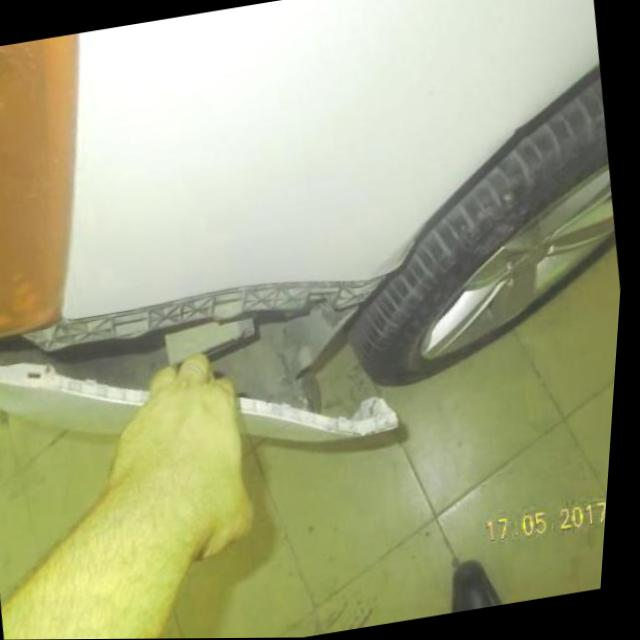Car-Damage: (0, 265, 426, 495)
